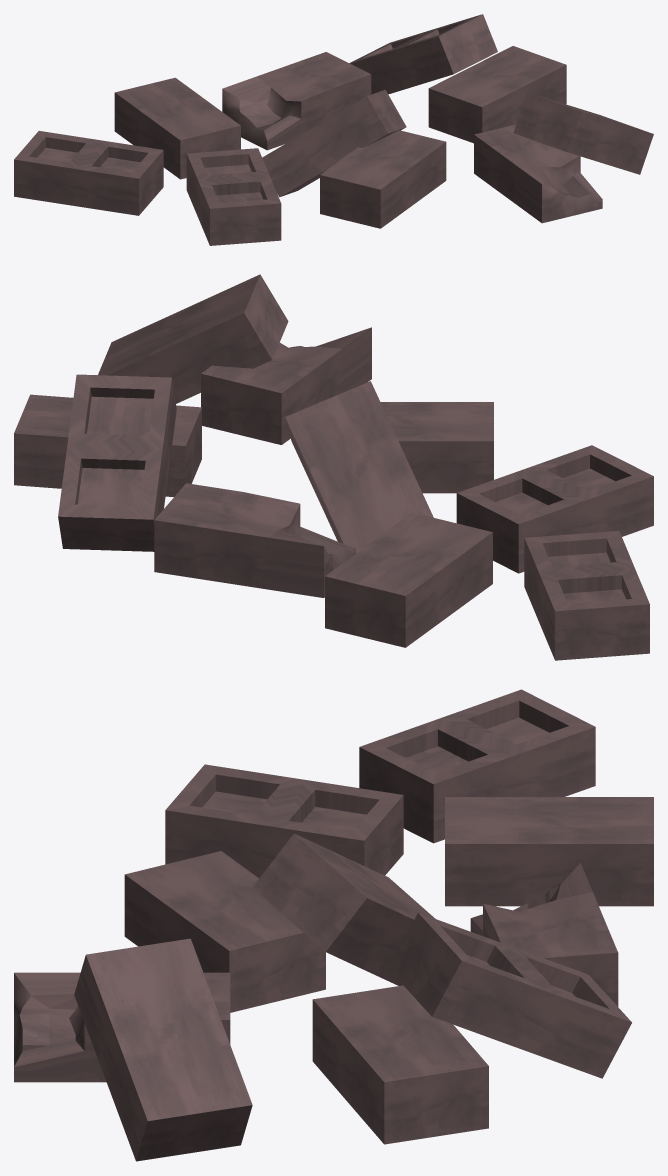
The model's file is rubblebricks.FBX.
3 views of the same model, one above another, from view 1: azimuth 30°, elevation 25°; view 2: azimuth 150°, elevation 25°; view 3: azimuth 270°, elevation 25° (orthographic). The views are drawn at different scales.
Visible parts, largest first — view 1: brick001, brickbroken, bricksmooth001, bricksmooth002, Object001, brick002, bricksmooth, bricksmooth003, brick003, bricksmooth004; view 2: brick003, bricksmooth, brickbroken, brick002, bricksmooth003, brick001, bricksmooth004, Object001, bricksmooth001, bricksmooth002; view 3: bricksmooth004, bricksmooth, brick003, brick001, bricksmooth002, bricksmooth001, brick002, bricksmooth003, Object001, brickbroken.
Part boxes in pixels (x1=…): brick001: x1=14, y1=131, x2=163, y2=215; brickbroken: x1=222, y1=52, x2=371, y2=150; bricksmooth001: x1=320, y1=130, x2=446, y2=228; bricksmooth002: x1=428, y1=46, x2=566, y2=143; Object001: x1=474, y1=124, x2=602, y2=223; brick002: x1=186, y1=148, x2=281, y2=245; bricksmooth: x1=114, y1=77, x2=240, y2=179; bricksmooth003: x1=262, y1=89, x2=406, y2=197; brick003: x1=349, y1=14, x2=497, y2=94; bricksmooth004: x1=513, y1=92, x2=653, y2=174; brick003: x1=58, y1=374, x2=176, y2=551; bricksmooth: x1=325, y1=512, x2=492, y2=647; brickbroken: x1=154, y1=483, x2=355, y2=597; brick002: x1=456, y1=445, x2=653, y2=573; bricksmooth003: x1=285, y1=381, x2=433, y2=553; brick001: x1=524, y1=531, x2=649, y2=660; bricksmooth004: x1=98, y1=274, x2=288, y2=403; Object001: x1=201, y1=327, x2=371, y2=444; bricksmooth001: x1=319, y1=402, x2=493, y2=493; bricksmooth002: x1=14, y1=394, x2=201, y2=497; bricksmooth004: x1=74, y1=938, x2=252, y2=1161; bricksmooth: x1=445, y1=797, x2=653, y2=906; brick003: x1=388, y1=912, x2=631, y2=1078; brick001: x1=359, y1=689, x2=595, y2=843; bricksmooth002: x1=312, y1=985, x2=488, y2=1144; bricksmooth001: x1=124, y1=851, x2=325, y2=1012; brick002: x1=165, y1=764, x2=403, y2=878; bricksmooth003: x1=252, y1=833, x2=435, y2=985; Object001: x1=14, y1=972, x2=230, y2=1082; brickbroken: x1=470, y1=863, x2=618, y2=1006.
Size of the model in its own units: 0.5143 by 0.1136 by 0.3426.
Materials: 1 (1 with a texture image).
